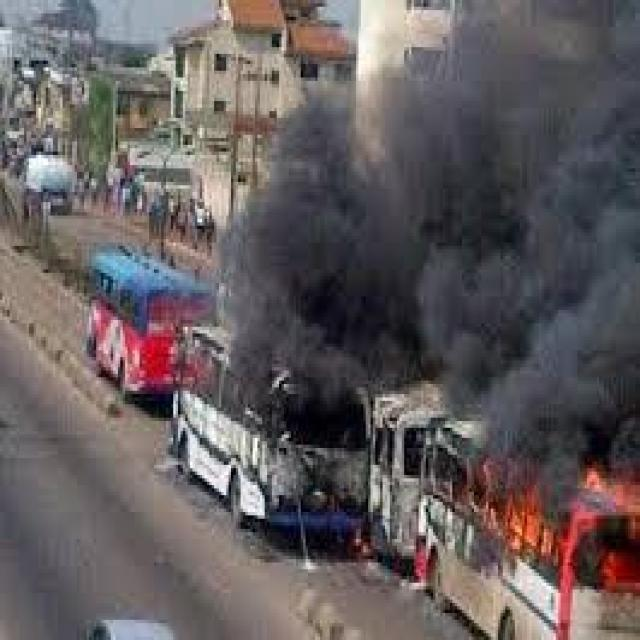fire: (456, 414, 636, 582)
smoke: (190, 3, 635, 451)
